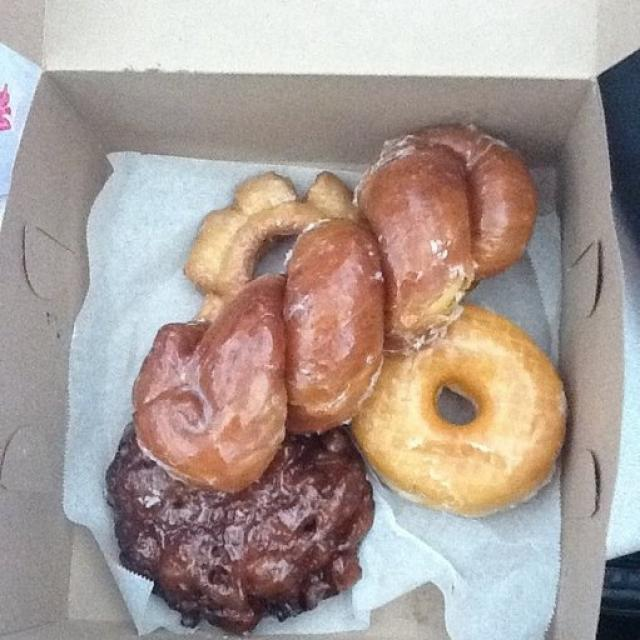Donuts: (78, 116, 600, 640)
